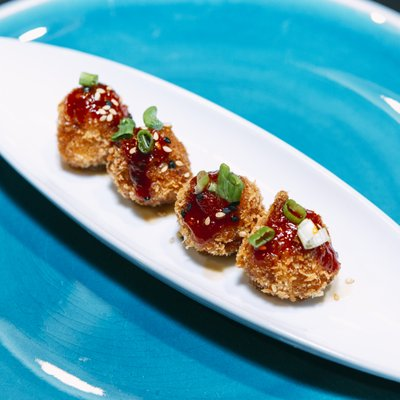curry: (1, 3, 398, 398)
